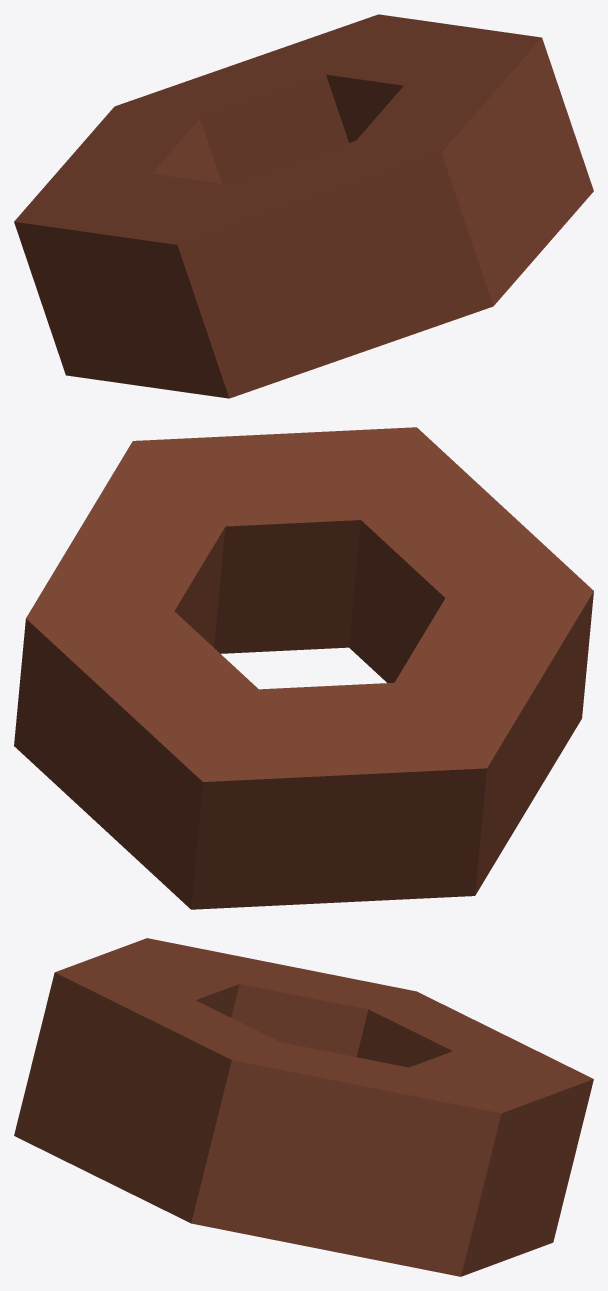
Rendered from parafuso_004.fbx.
The picture shows the model from 3 angles, top to bottom: view 1: azimuth 30°, elevation 25°; view 2: azimuth 150°, elevation 25°; view 3: azimuth 270°, elevation 25°; orthographic projection. The views are drawn at different scales.
Parts seen in each view (by area): view 1: parafuso_004; view 2: parafuso_004; view 3: parafuso_004.
Part boxes in pixels (bbox=[...]): parafuso_004: bbox=[14, 14, 593, 398]; parafuso_004: bbox=[14, 427, 593, 909]; parafuso_004: bbox=[14, 938, 593, 1276].
Bounding box in the file's own units: 69.41 × 41.31 × 73.88.
